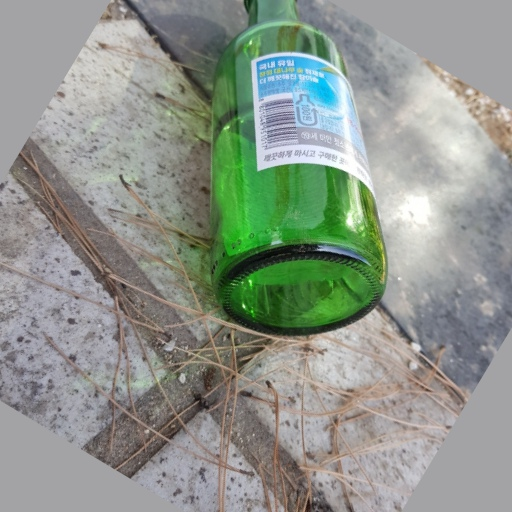Glass_0: (201, 1, 387, 336)
